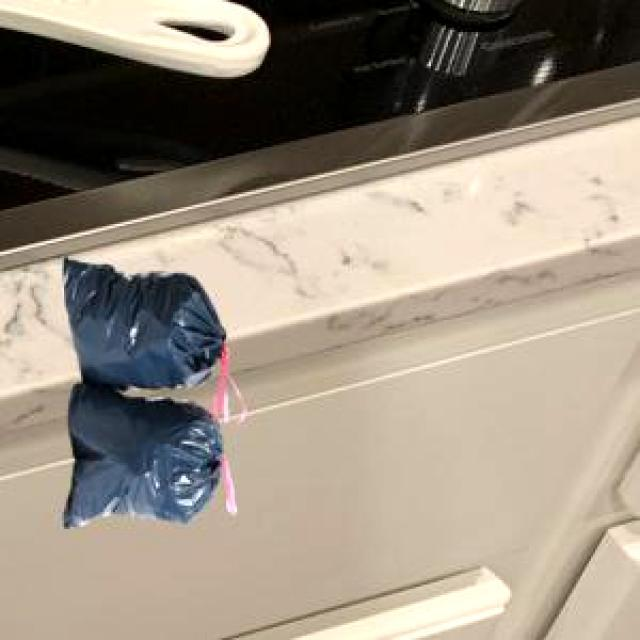Garbage_Bag: (60, 257, 234, 524)
